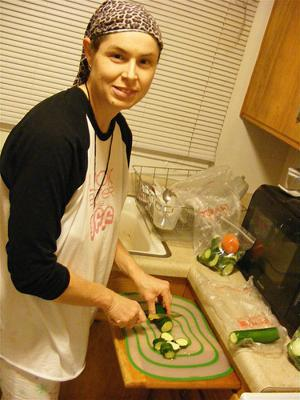person: (2, 2, 174, 400)
